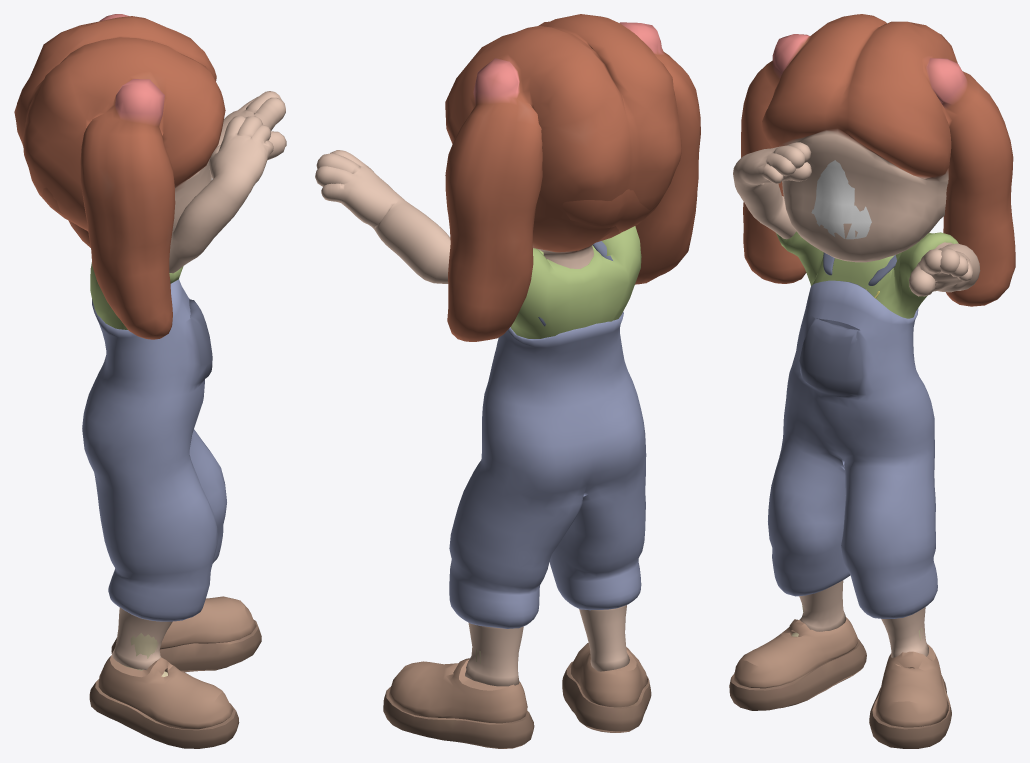
3 views of the same model, side by side, from view 1: azimuth 30°, elevation 25°; view 2: azimuth 150°, elevation 25°; view 3: azimuth 270°, elevation 25° (orthographic). The views are drawn at different scales.
Visible parts, largest first — view 1: Arms.069; view 2: Arms.069; view 3: Arms.069.
Part boxes in pixels (left/top/right/bottom): Arms.069: left=14, top=14, right=286, bottom=748; Arms.069: left=315, top=14, right=700, bottom=748; Arms.069: left=729, top=14, right=1015, bottom=748.
Bounding box in the file's own units: 75.34 × 164 × 64.34.
